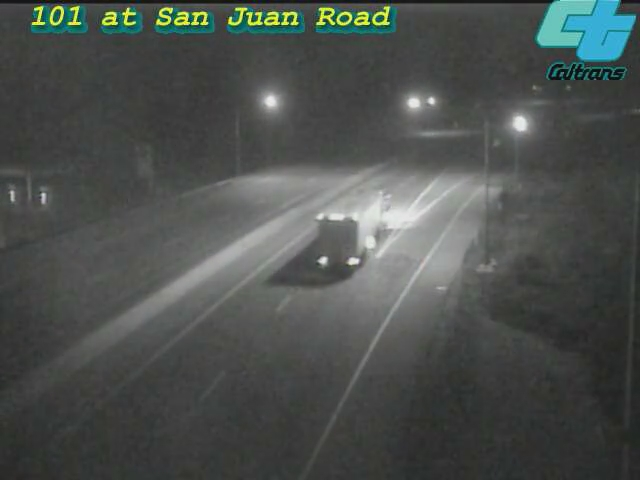vehicle: (319, 183, 399, 263), (495, 99, 545, 149)
